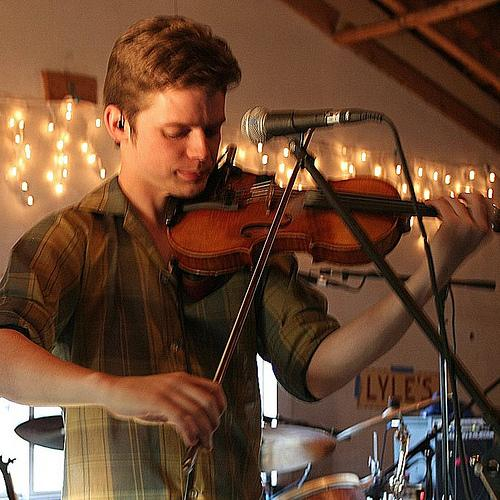person: (1, 16, 498, 500)
